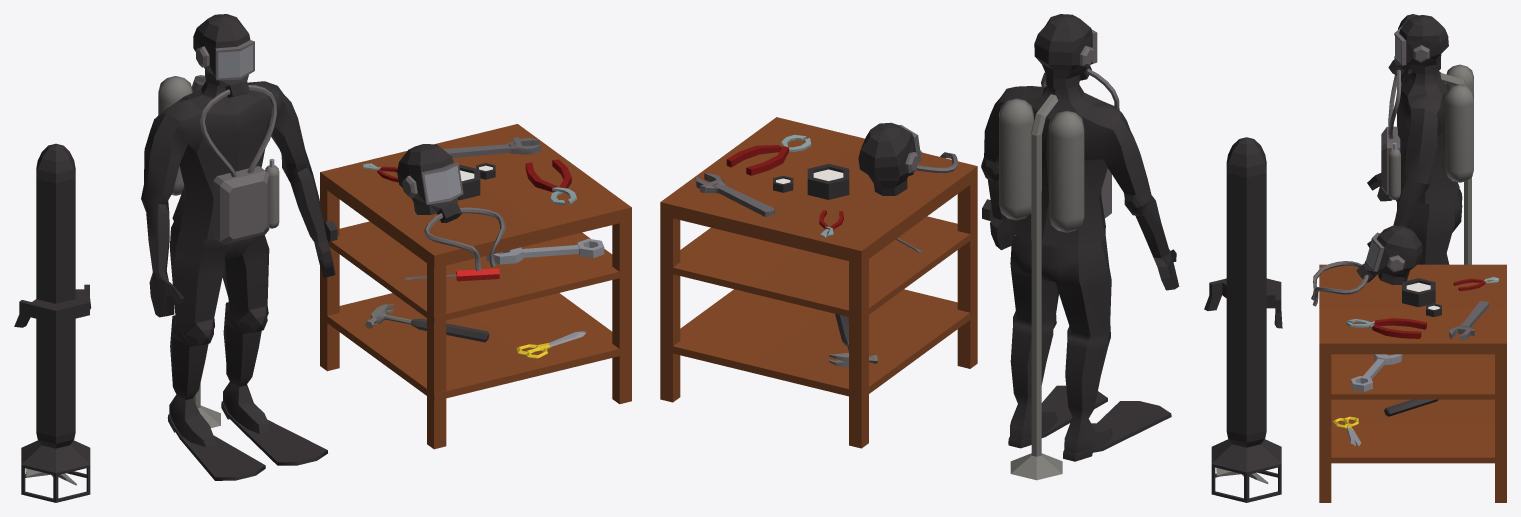
Rendered from g_o_divingGearMaintainance.fbx.
The picture shows the model from 3 angles, left to right: view 1: azimuth 30°, elevation 25°; view 2: azimuth 150°, elevation 25°; view 3: azimuth 270°, elevation 25°; orthographic projection. The views are drawn at different scales.
Parts seen in each view (by area): view 1: diving_gear_repair; view 2: diving_gear_repair; view 3: diving_gear_repair.
Part boxes in pixels (left/top/right/bottom): diving_gear_repair: left=14, top=14, right=631, bottom=502; diving_gear_repair: left=660, top=14, right=1282, bottom=502; diving_gear_repair: left=1311, top=14, right=1506, bottom=502.
Size of the model in its own units: 2.26 by 1.64 by 0.8357.
